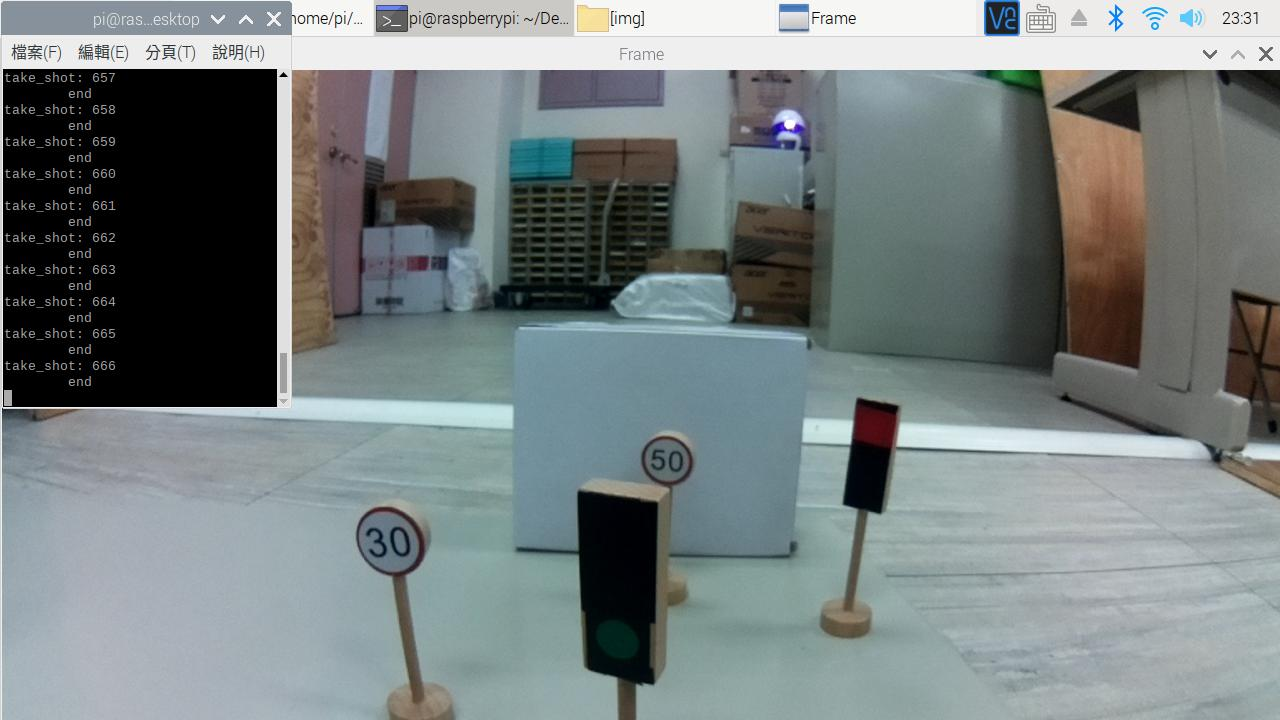Green: (556, 475, 678, 682)
Red: (822, 391, 913, 527)
Speed30: (350, 491, 437, 577)
Speed50: (633, 426, 707, 491)
